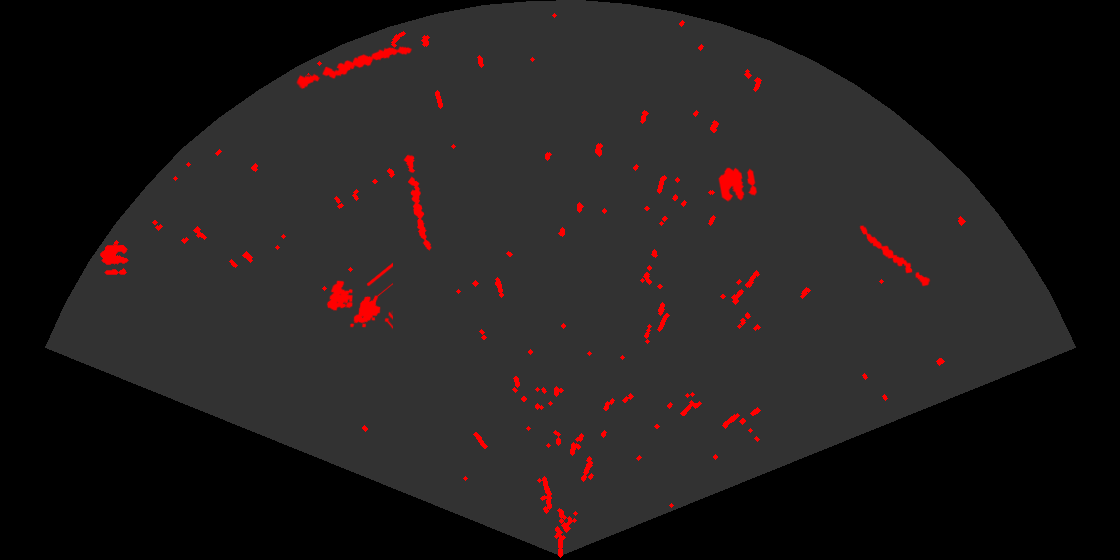ball: (717, 166, 759, 203), (99, 243, 130, 276)
cage: (325, 261, 393, 331)
chain: (294, 45, 414, 91), (858, 224, 932, 288), (402, 152, 433, 252)
